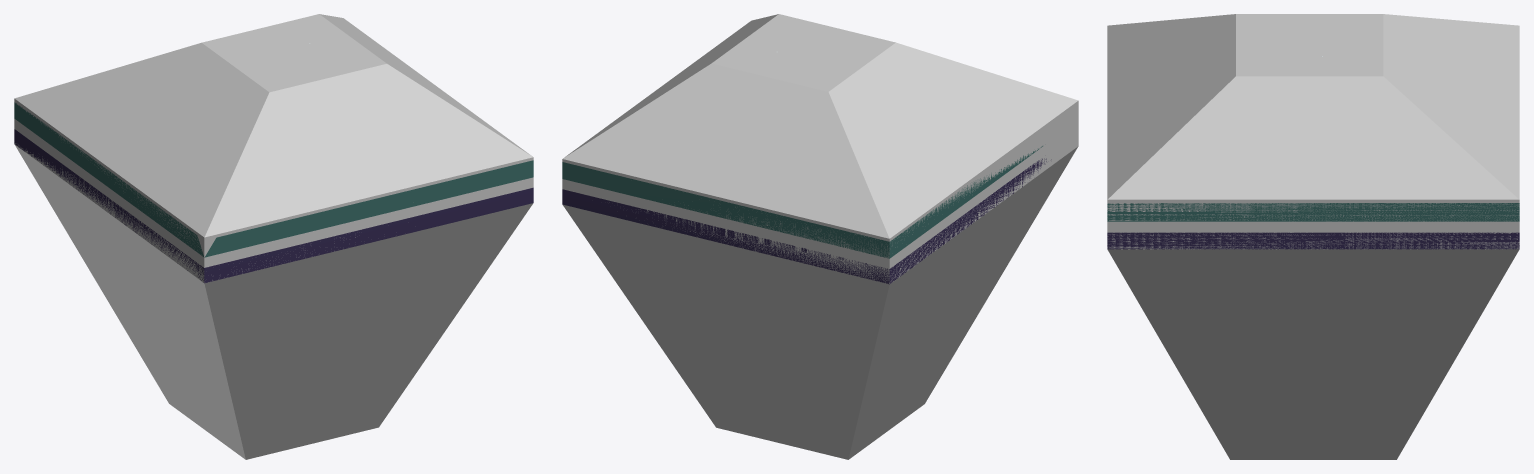
The model's file is SM_Table_10.fbx.
3 views of the same model, side by side, from view 1: azimuth 30°, elevation 25°; view 2: azimuth 150°, elevation 25°; view 3: azimuth 270°, elevation 25° (orthographic). The views are drawn at different scales.
Parts seen in each view (by area): view 1: SM_Table_10_ConvexHulls, SM_Table_10; view 2: SM_Table_10_ConvexHulls, SM_Table_10; view 3: SM_Table_10_ConvexHulls, SM_Table_10.
Boxes of the visible parts, x1=… form: SM_Table_10_ConvexHulls: x1=14, y1=14, x2=533, y2=459; SM_Table_10: x1=14, y1=43, x2=533, y2=283; SM_Table_10_ConvexHulls: x1=562, y1=14, x2=1078, y2=459; SM_Table_10: x1=562, y1=146, x2=1051, y2=284; SM_Table_10_ConvexHulls: x1=1107, y1=14, x2=1519, y2=459; SM_Table_10: x1=1107, y1=56, x2=1519, y2=249.
Bounding box in the file's own units: 122 × 122 × 128.
2 materials, 1 textured.
